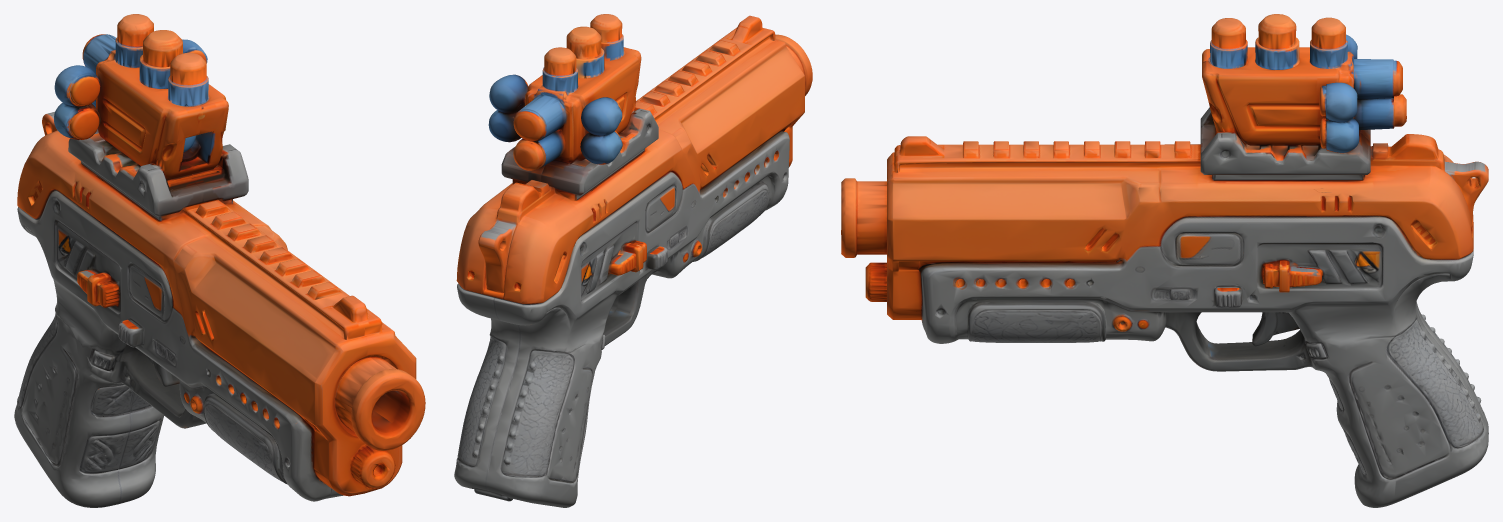
File: foam_gun.glb
3 views of the same model, side by side, from view 1: azimuth 30°, elevation 25°; view 2: azimuth 150°, elevation 25°; view 3: azimuth 270°, elevation 25° (orthographic). The views are drawn at different scales.
Visible parts, largest first — view 1: node_0; view 2: node_0; view 3: node_0.
Part boxes in pixels (x1=…): node_0: x1=14, y1=14, x2=425, y2=507; node_0: x1=454, y1=14, x2=812, y2=507; node_0: x1=841, y1=14, x2=1488, y2=507.
Bounding box in the file's own units: 0.2451 × 0.8254 × 1.02.
1 material, 1 textured.
